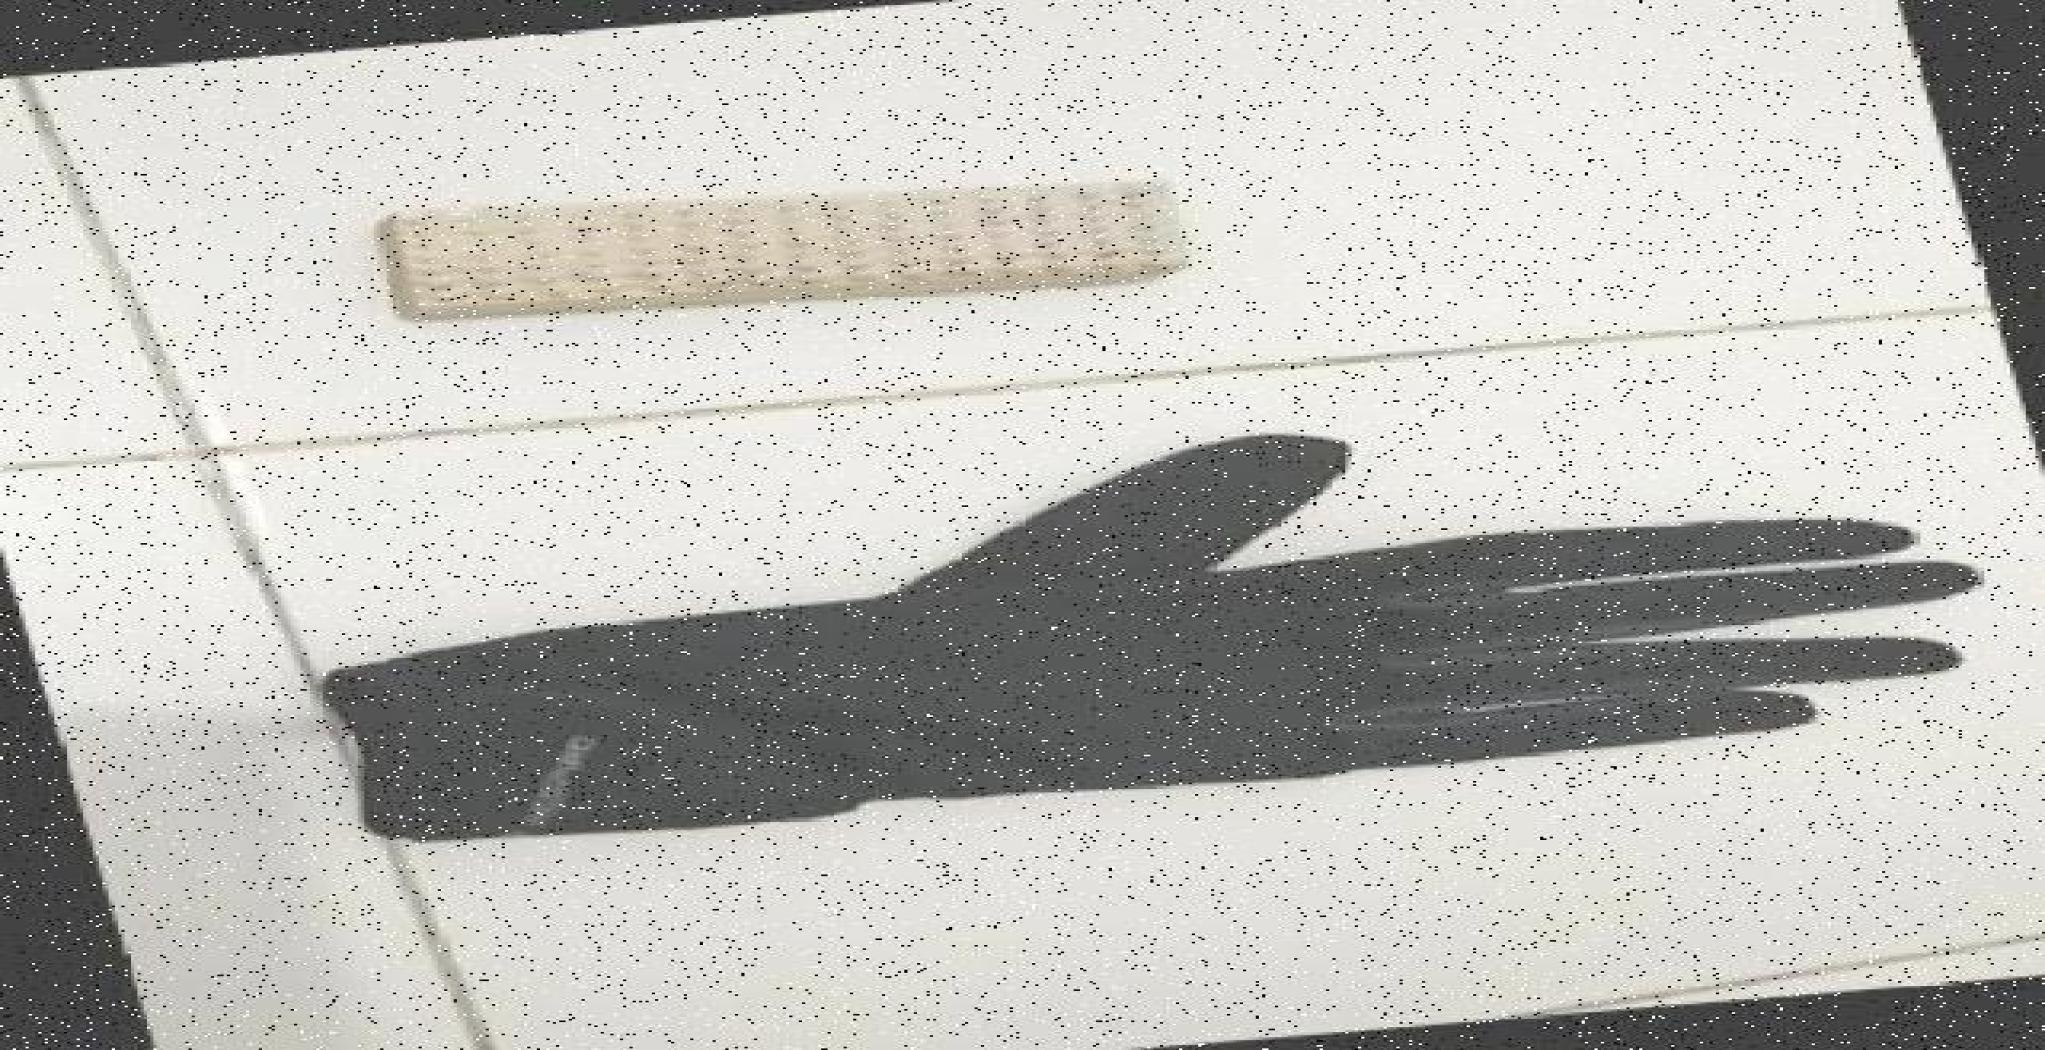gloved: (316, 431, 1981, 841)
